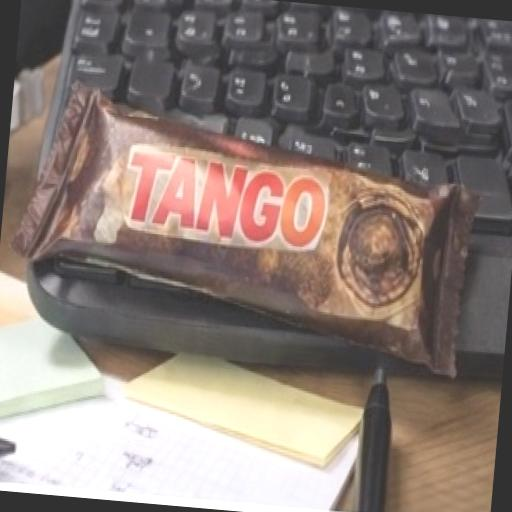tango: (0, 8, 496, 436)
